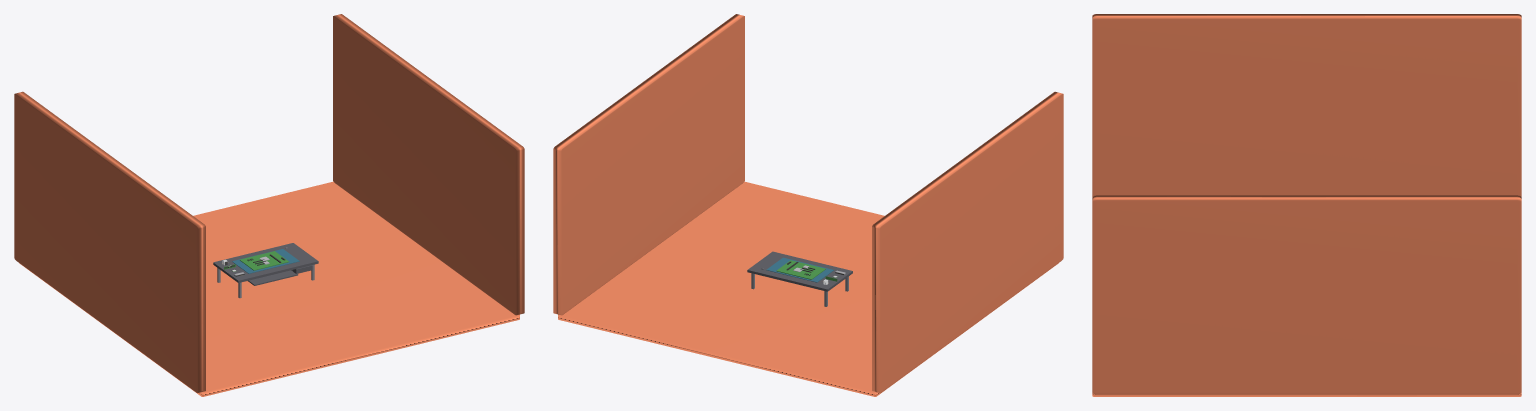
Rendered from ZONA3.fbx.
The picture shows the model from 3 angles, left to right: view 1: azimuth 30°, elevation 25°; view 2: azimuth 150°, elevation 25°; view 3: azimuth 270°, elevation 25°; orthographic projection. The views are drawn at different scales.
Parts seen in each view (by area): view 1: Floor, LeftWall, RightWall, Cylinder.008, Cube; view 2: Floor, LeftWall, RightWall, Cylinder.008, Cube; view 3: RightWall, LeftWall, Floor.
Boxes of the visible parts, x1,y1,x2,y2 form: Floor: (19, 181, 519, 396); LeftWall: (14, 91, 205, 392); RightWall: (333, 14, 524, 315); Cylinder.008: (213, 243, 318, 298); Cube: (240, 251, 288, 270); Floor: (558, 181, 1058, 396); LeftWall: (872, 91, 1063, 392); RightWall: (553, 14, 744, 315); Cylinder.008: (747, 251, 852, 306); Cube: (776, 260, 825, 279); RightWall: (1092, 195, 1521, 394); LeftWall: (1092, 14, 1521, 196); Floor: (1092, 393, 1521, 396).
Bounding box in the file's own units: 11241 × 5621 × 10967.
